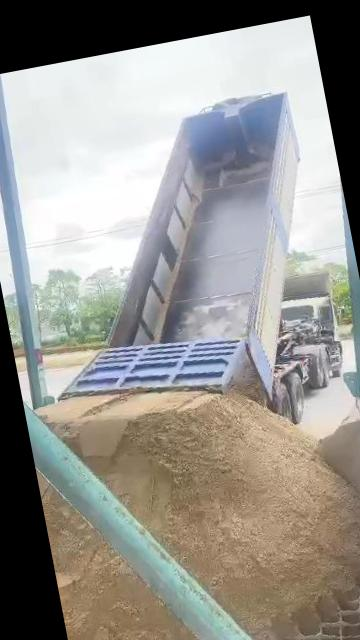sand: (42, 351, 360, 640), (40, 483, 209, 640), (320, 410, 360, 504)
